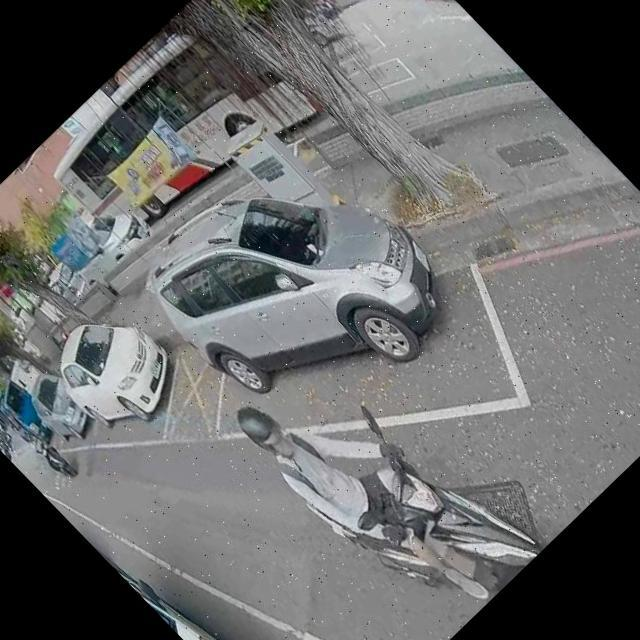person: (221, 339, 519, 640), (18, 421, 76, 478), (300, 0, 340, 20)
